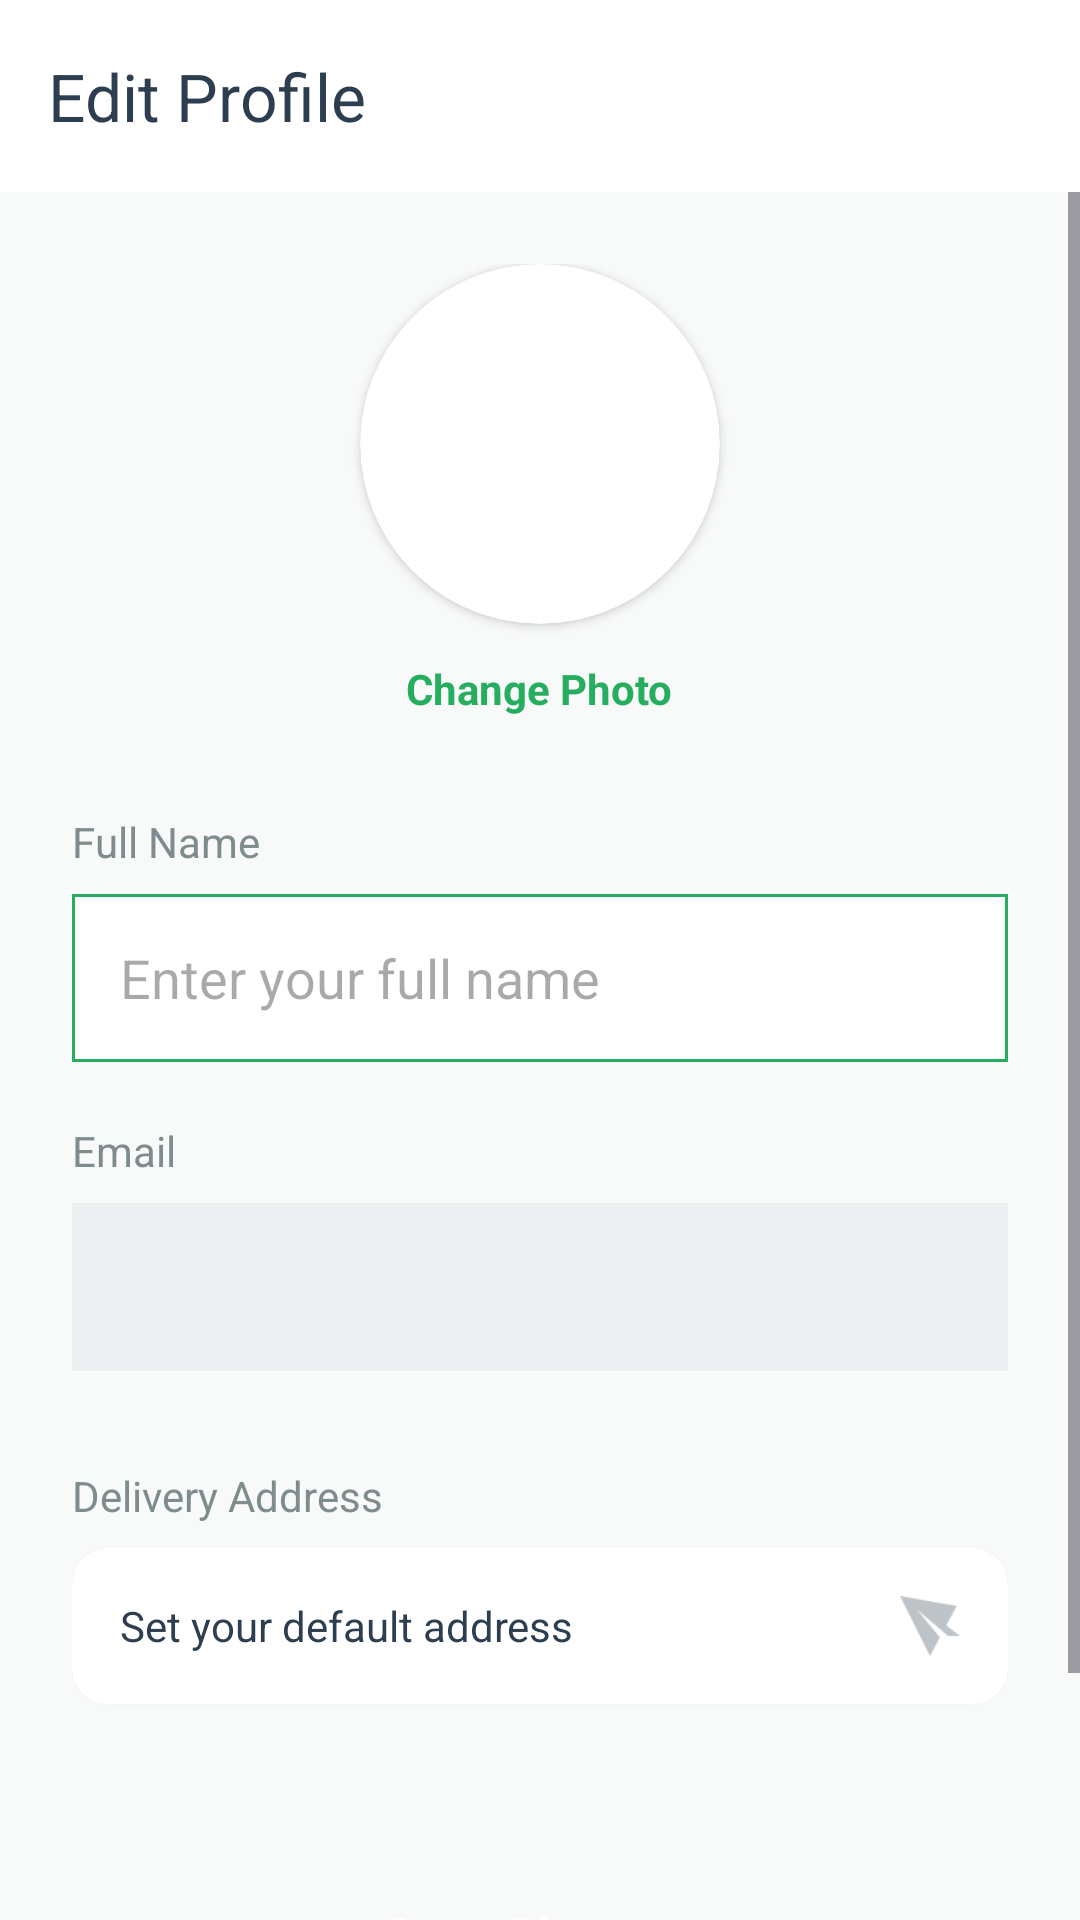

Locate icon controls on the screen. Image size 1080 × 1920, boxes as (x1, y1, x2, y2).
send: (900, 1596, 959, 1655)
